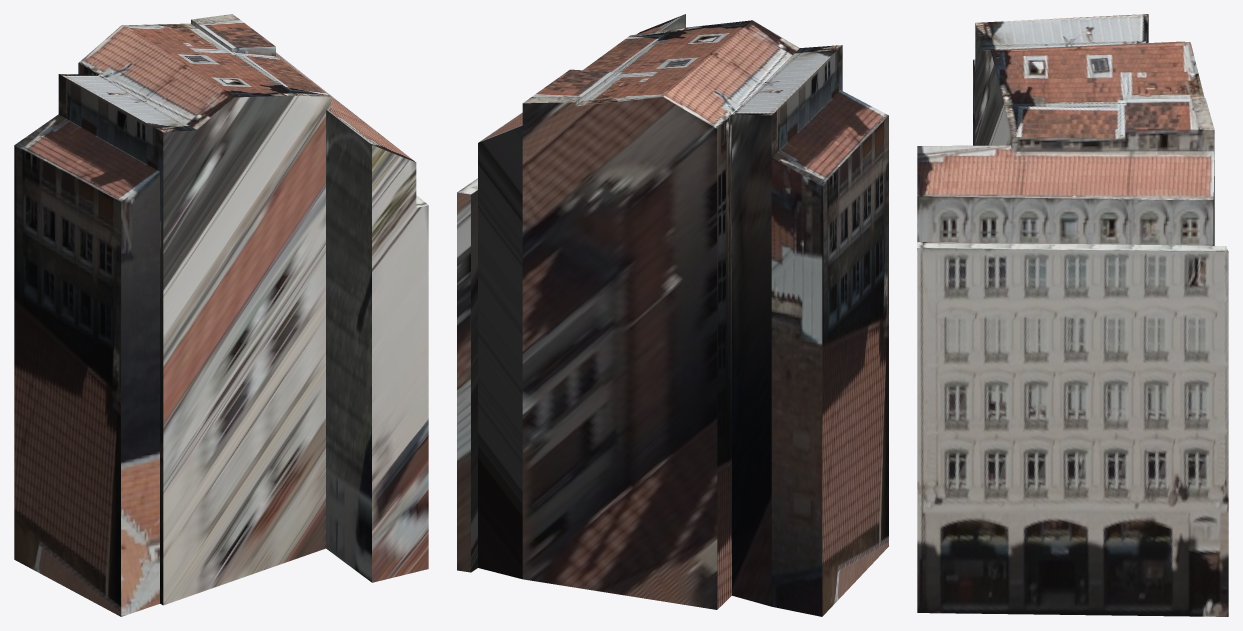
3 views of the same model, side by side, from view 1: azimuth 30°, elevation 25°; view 2: azimuth 150°, elevation 25°; view 3: azimuth 270°, elevation 25° (orthographic). The views are drawn at different scales.
Visible parts, largest first — view 1: Z_UP; view 2: Z_UP; view 3: Z_UP.
Part boxes in pixels (x1,y1,x2,y2): Z_UP: [14, 14, 428, 616]; Z_UP: [457, 14, 888, 616]; Z_UP: [917, 14, 1228, 616].
Size of the model in its own units: 18.15 by 27.22 by 15.78.
Materials: 2 (1 with a texture image).
